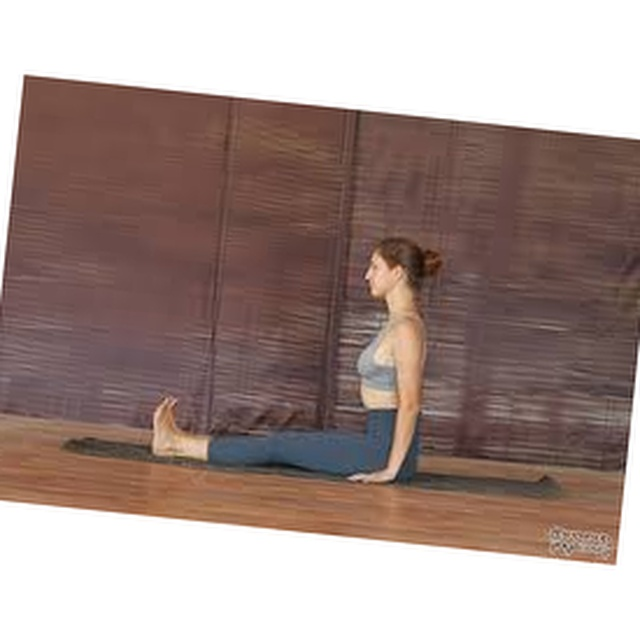Staff_Pose: (149, 239, 444, 483)
